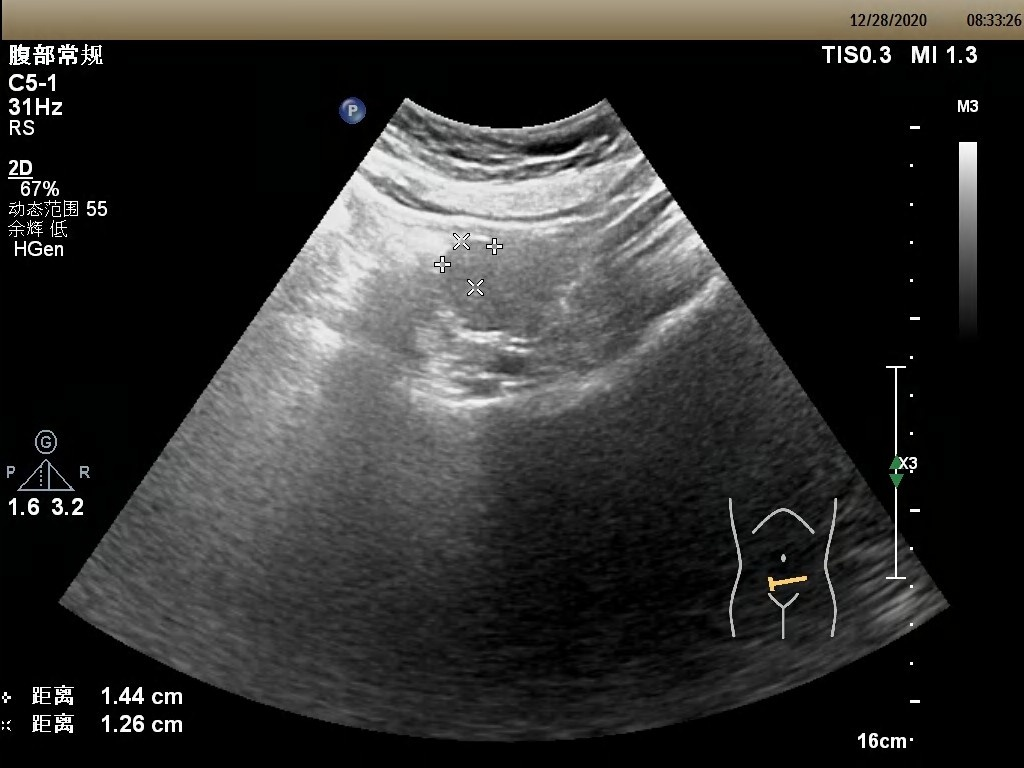肌瘤: (440, 240, 493, 285)
